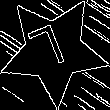L_S: (31, 21, 77, 80)
